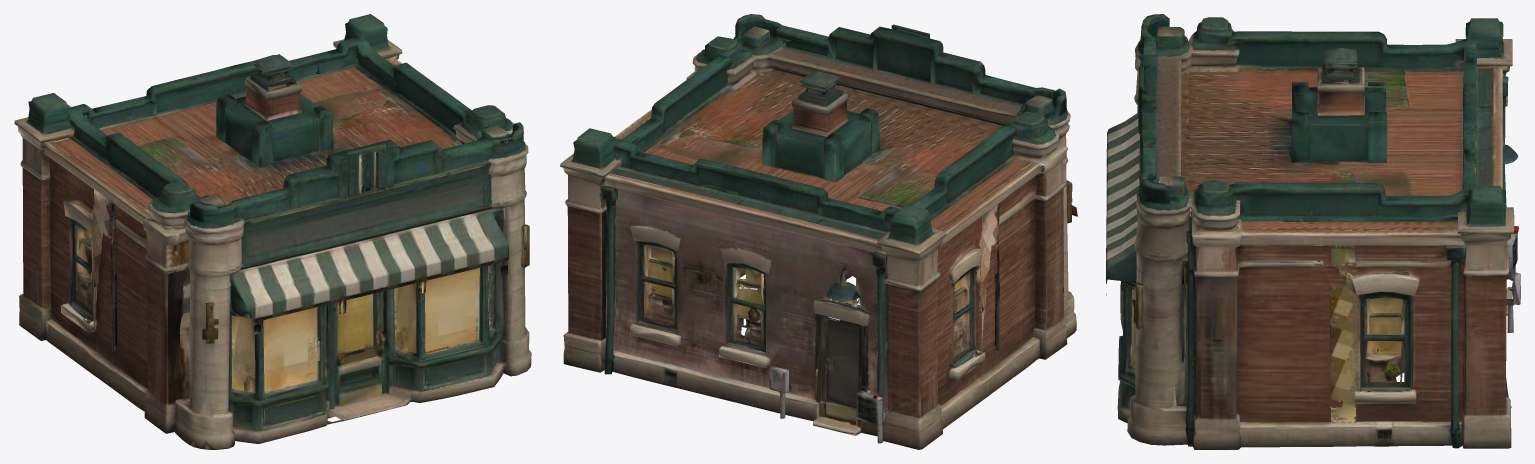
File: candidate.glb
3 renders of one model, left to right at view 1: azimuth 30°, elevation 25°; view 2: azimuth 150°, elevation 25°; view 3: azimuth 270°, elevation 25°, orthographic. The views are drawn at different scales.
Visible parts, largest first — view 1: expansion__shop_1__native_mobile; view 2: expansion__shop_1__native_mobile; view 3: expansion__shop_1__native_mobile.
Boxes of the visible parts, bbox=[...] form: expansion__shop_1__native_mobile: bbox=[14, 14, 531, 449]; expansion__shop_1__native_mobile: bbox=[560, 14, 1077, 449]; expansion__shop_1__native_mobile: bbox=[1106, 14, 1520, 449].
Size of the model in its own units: 1 by 0.7536 by 0.9143.
Materials: 1 (1 with a texture image).
